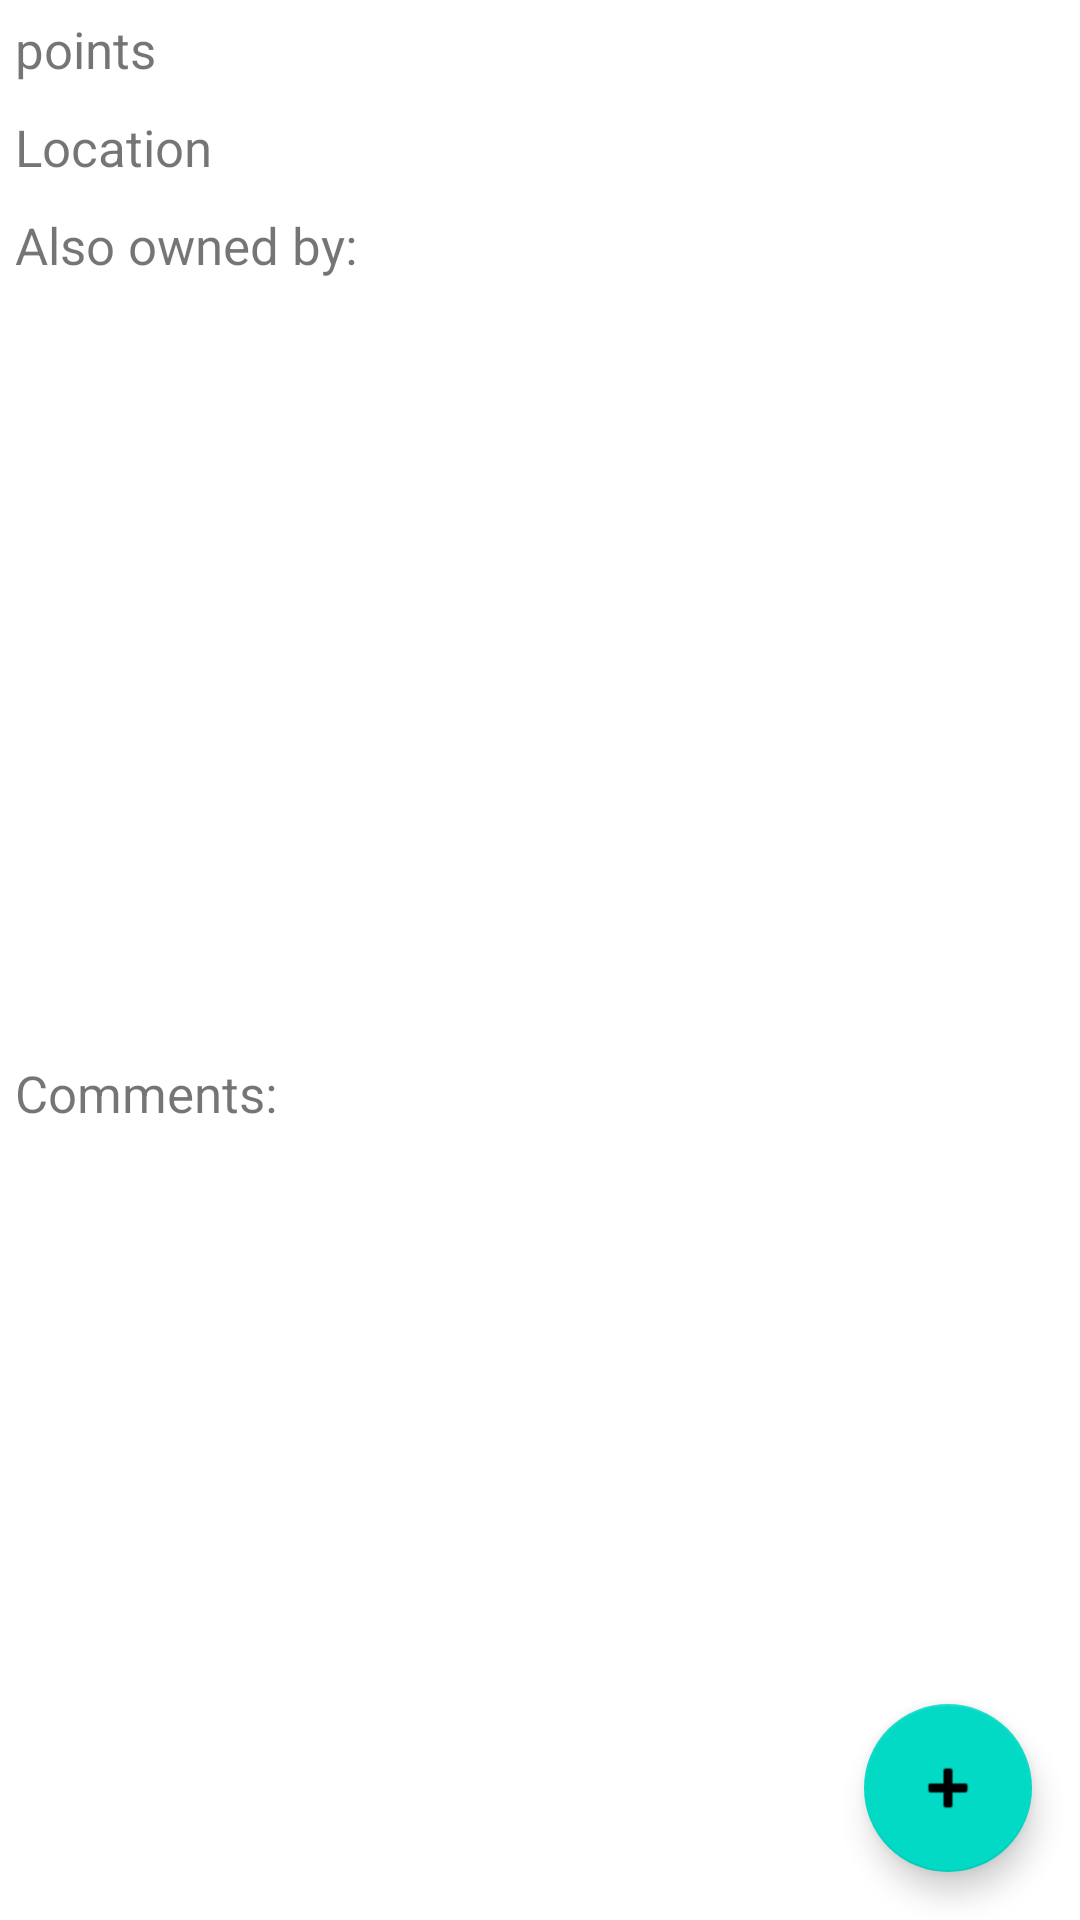

Screen size 1080*1920. Icon name, then its center in pixels as (x=x, y=y):
Add a new comment: (x=948, y=1788)
